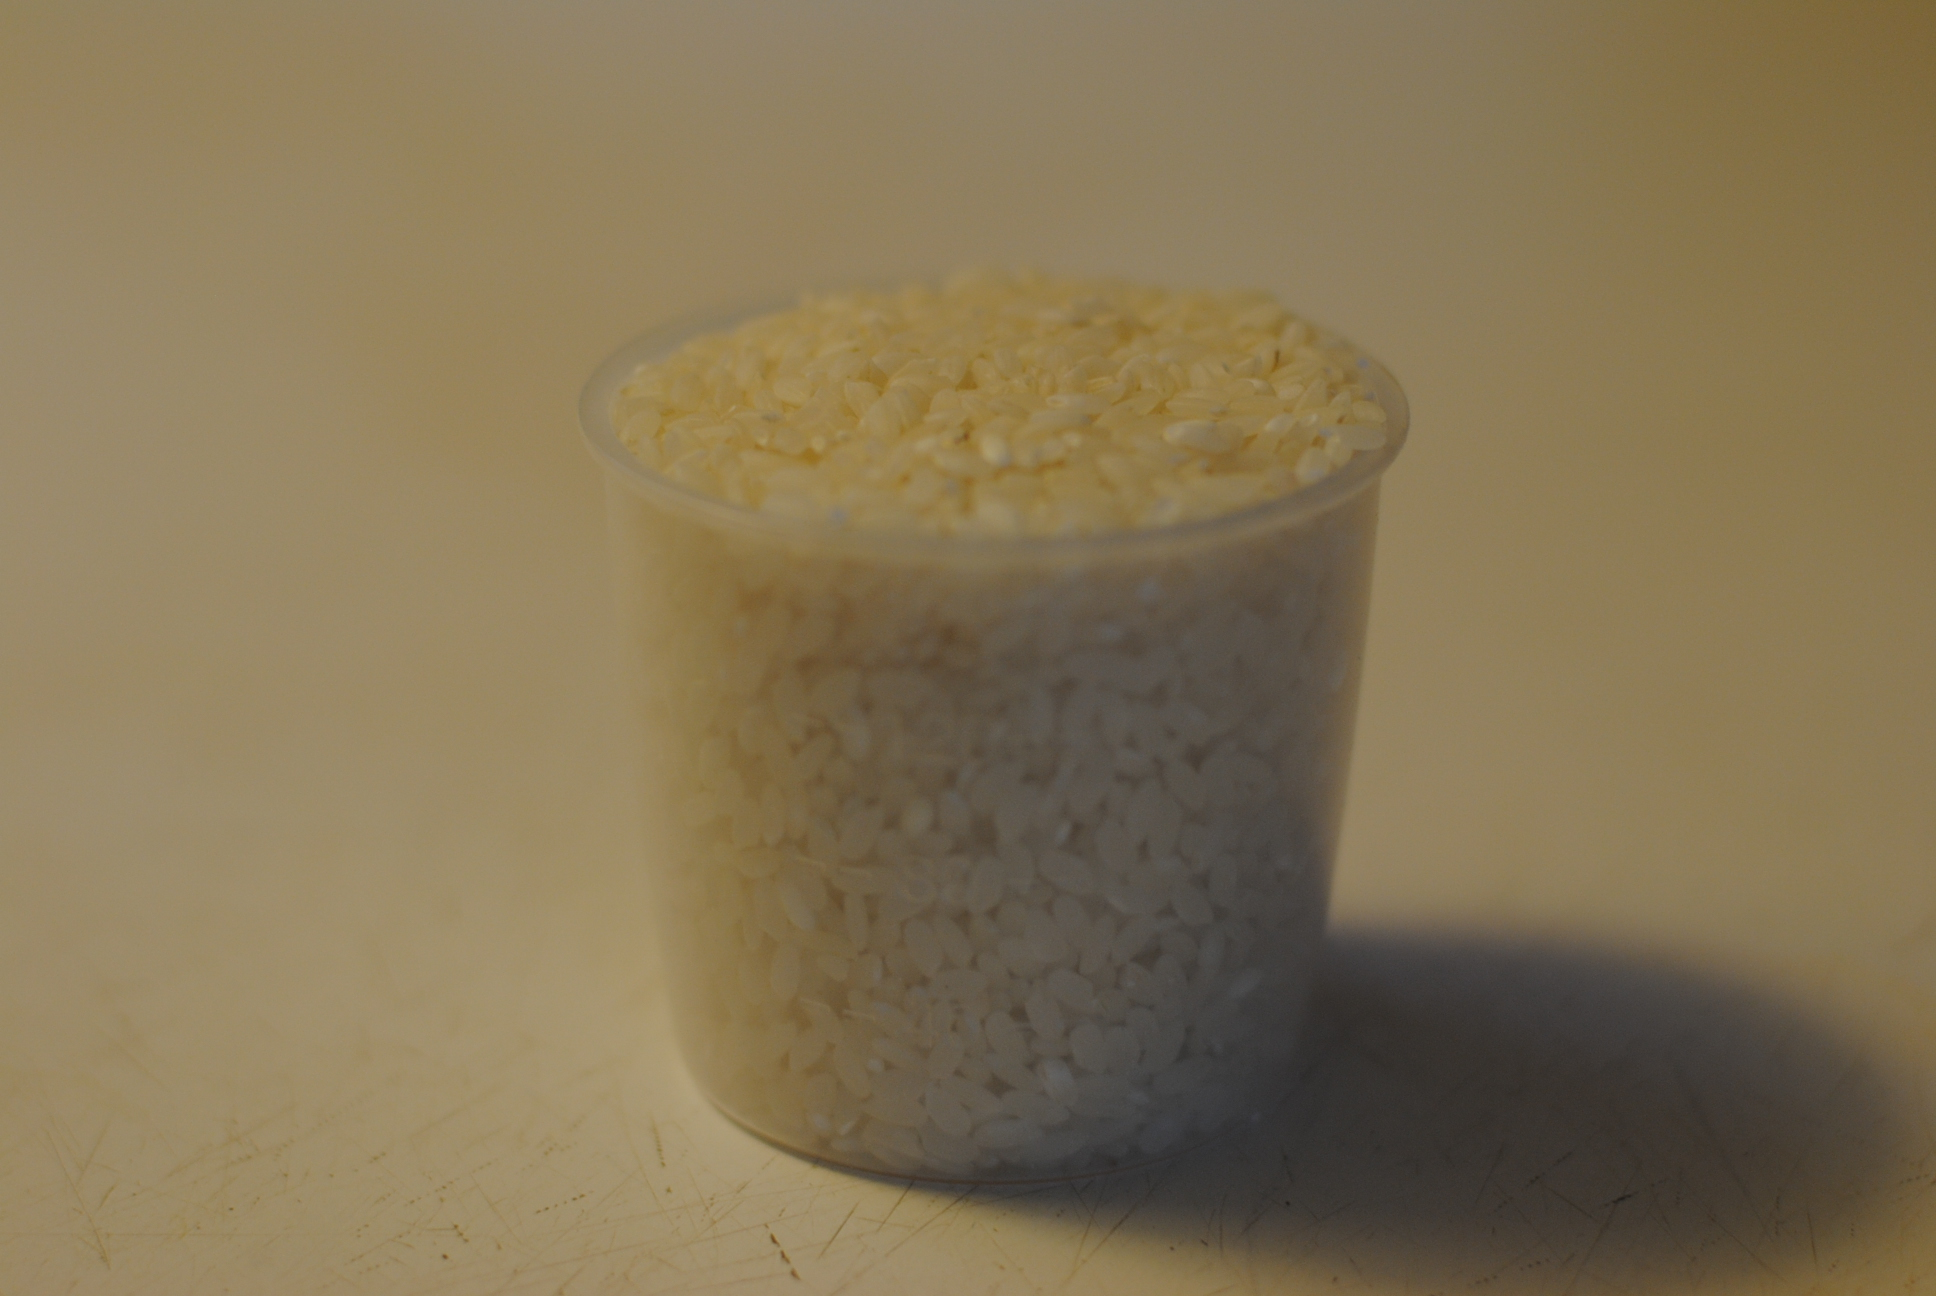plain rice: (638, 349, 1353, 1104)
